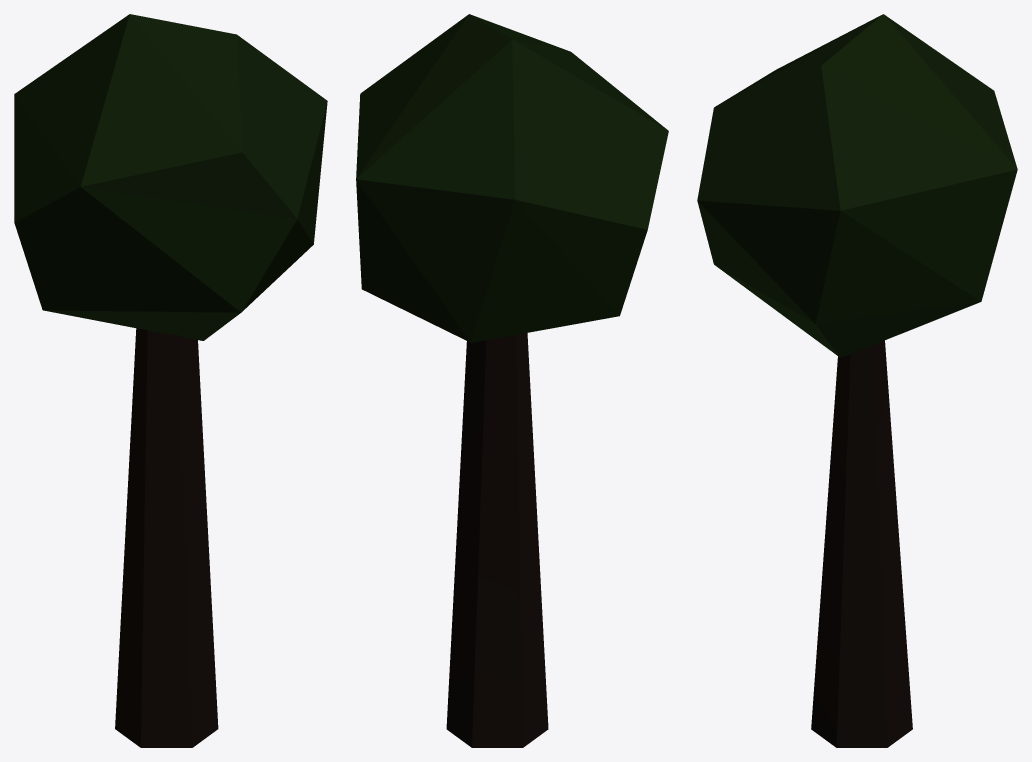
File: tree1.obj
3 renders of one model, left to right at view 1: azimuth 30°, elevation 25°; view 2: azimuth 150°, elevation 25°; view 3: azimuth 270°, elevation 25°, orthographic.
Parts seen in each view (by area): view 1: Cylinder_Cylinder.002; view 2: Cylinder_Cylinder.002; view 3: Cylinder_Cylinder.002.
Part boxes in pixels (x1=…): Cylinder_Cylinder.002: x1=14, y1=14, x2=327, y2=747; Cylinder_Cylinder.002: x1=356, y1=14, x2=668, y2=747; Cylinder_Cylinder.002: x1=697, y1=14, x2=1017, y2=747.
Bounding box in the file's own units: 2.07 × 4.67 × 1.93.
